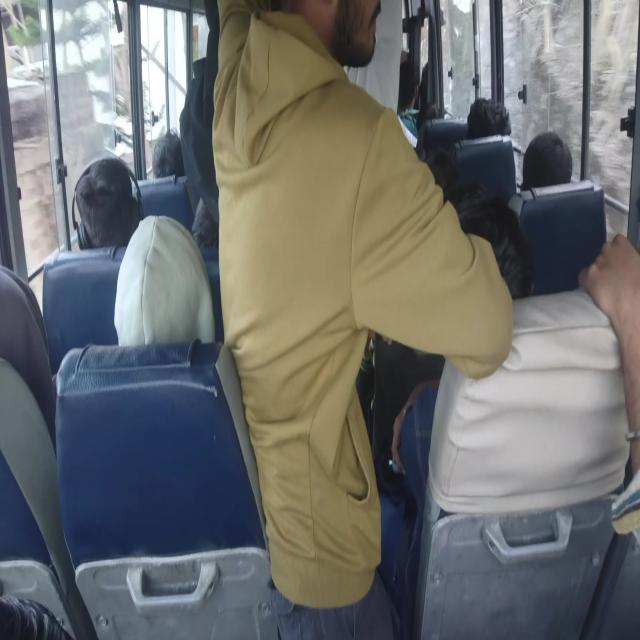person: (211, 0, 517, 638), (577, 231, 639, 483), (113, 214, 216, 346), (71, 155, 143, 250), (520, 130, 572, 191), (396, 59, 421, 149), (466, 96, 511, 139), (152, 128, 184, 178)
